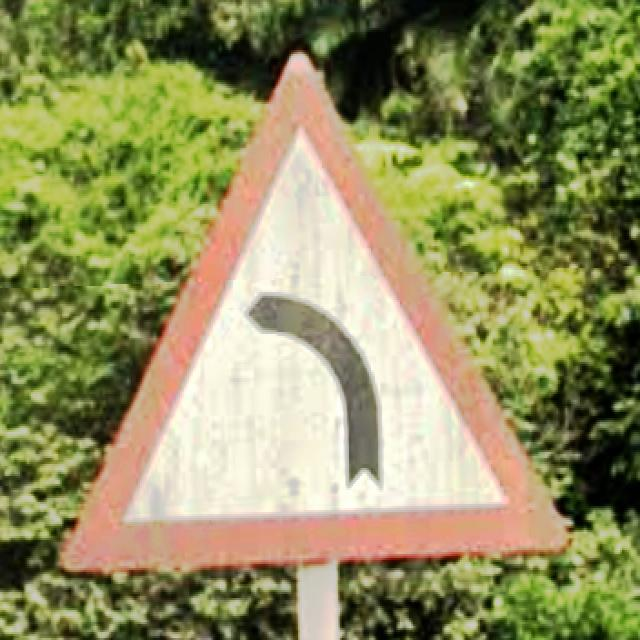leftbend: (60, 52, 571, 576)
